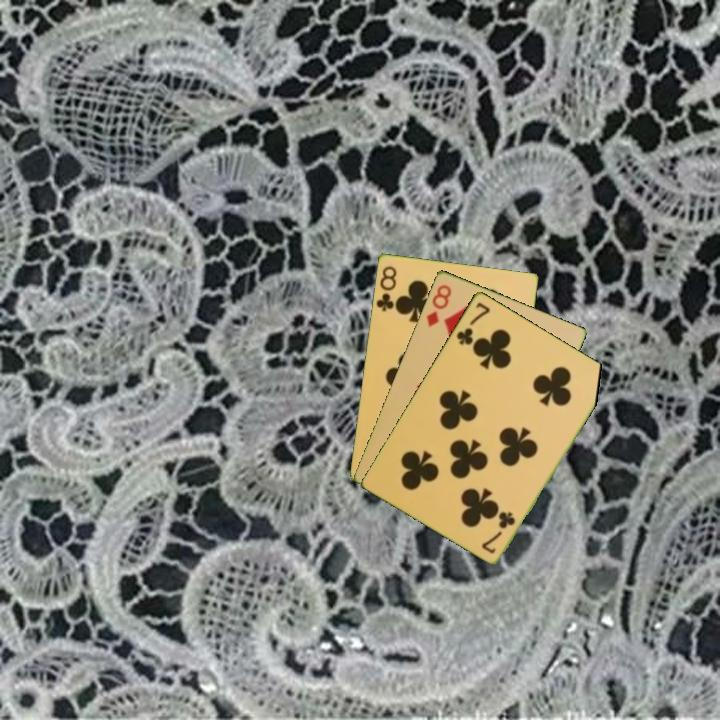7c: (453, 298, 493, 348), (479, 508, 518, 556)
8c: (373, 262, 399, 314)
8d: (422, 281, 454, 330)
